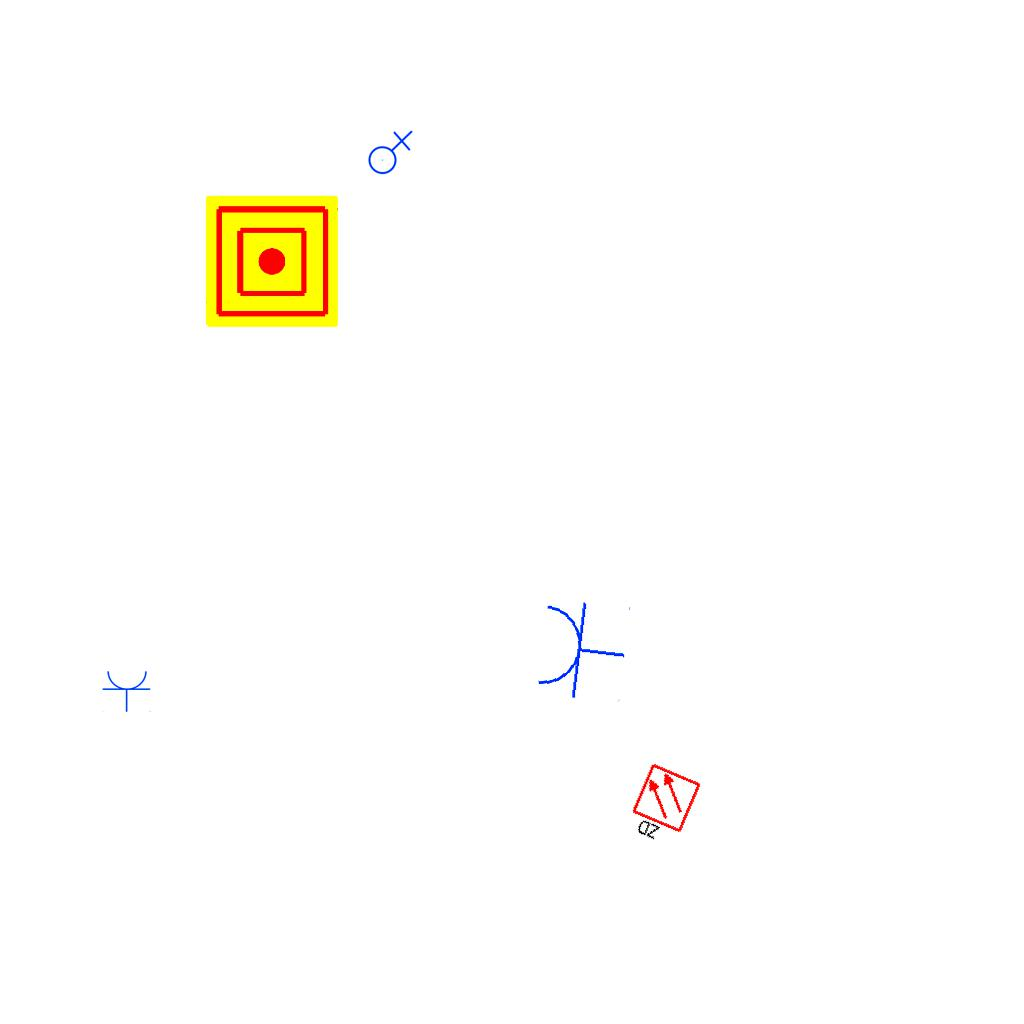Elektroanschluss_allgemein_230V_Geraeteanschlussdose_230V: (364, 128, 413, 175)
NAM-Nichtautomatischer_Melder: (206, 195, 338, 327)
Schukosteckdose_einfach: (532, 594, 632, 705), (102, 669, 152, 712)
ZD_Melder_in_Zwischendecke_mit_Revisionsoeffnung_mind_40_x_40_cm: (622, 761, 705, 853)
